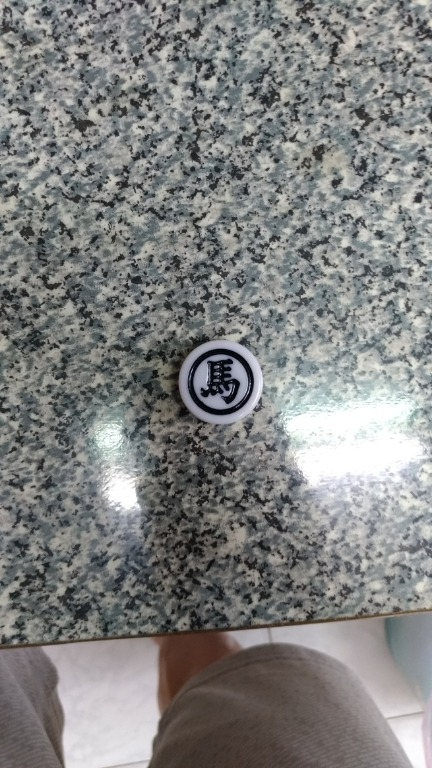b-knight: (162, 325, 291, 435)
